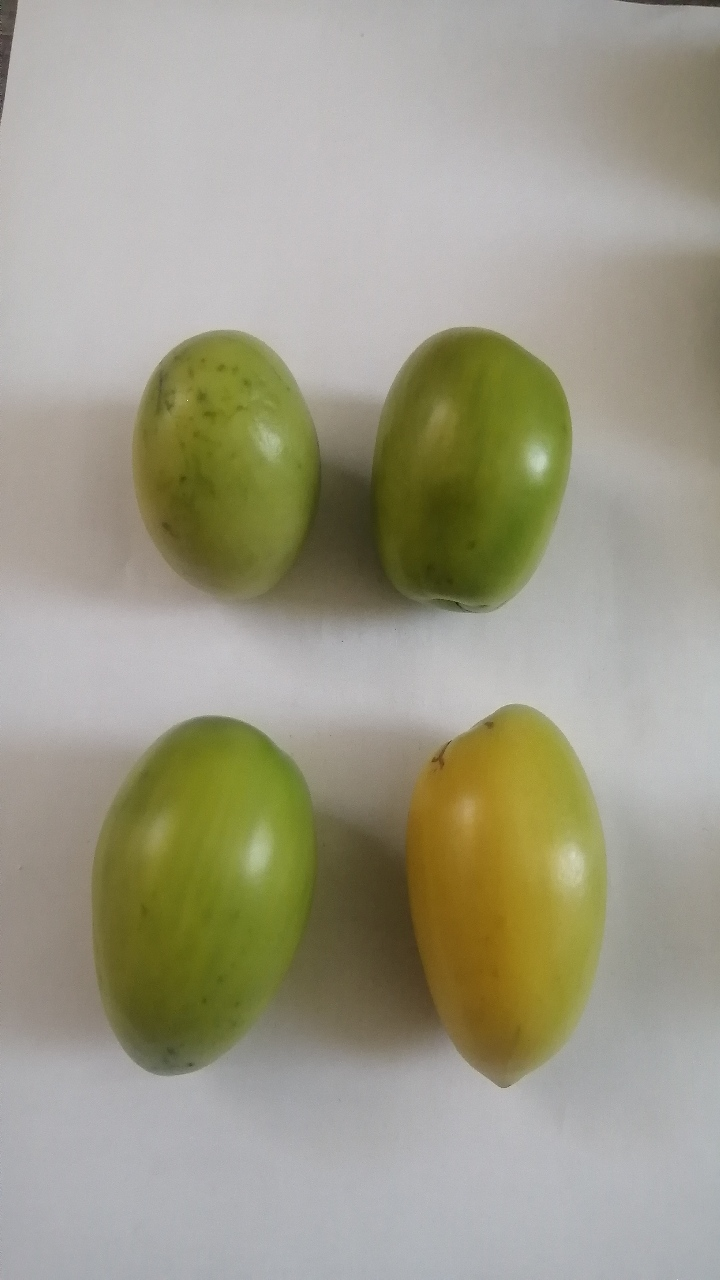tomateVerde: (72, 703, 334, 1109), (388, 691, 615, 1114), (104, 305, 340, 642), (352, 319, 589, 643)
